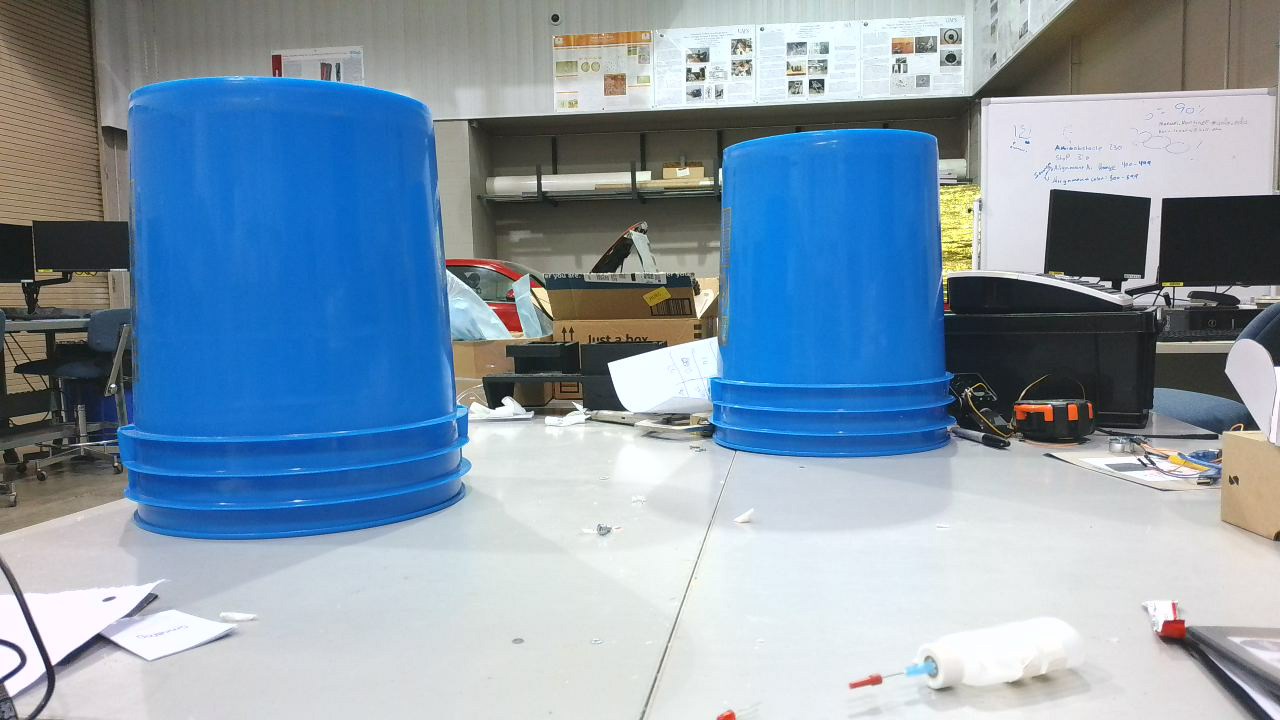blue_bucket: (117, 76, 481, 550), (707, 128, 967, 470)
